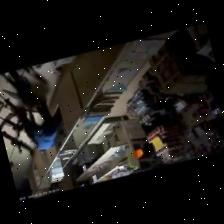person: (15, 100, 57, 151)
